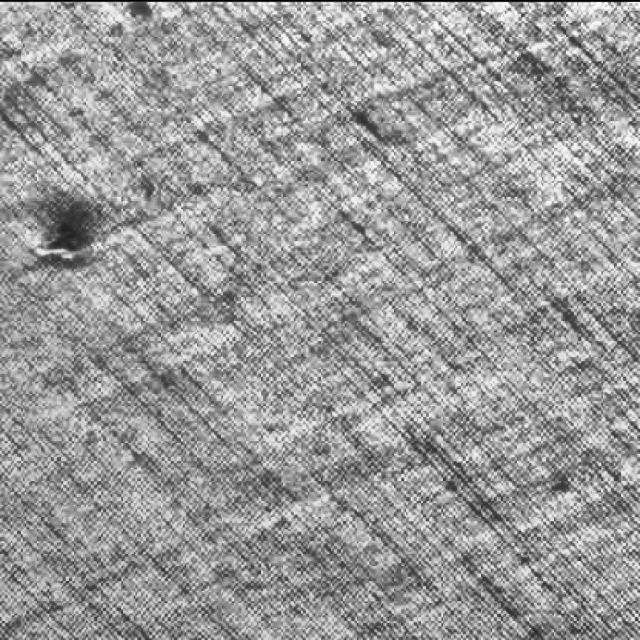objects: (29, 216, 98, 267)
